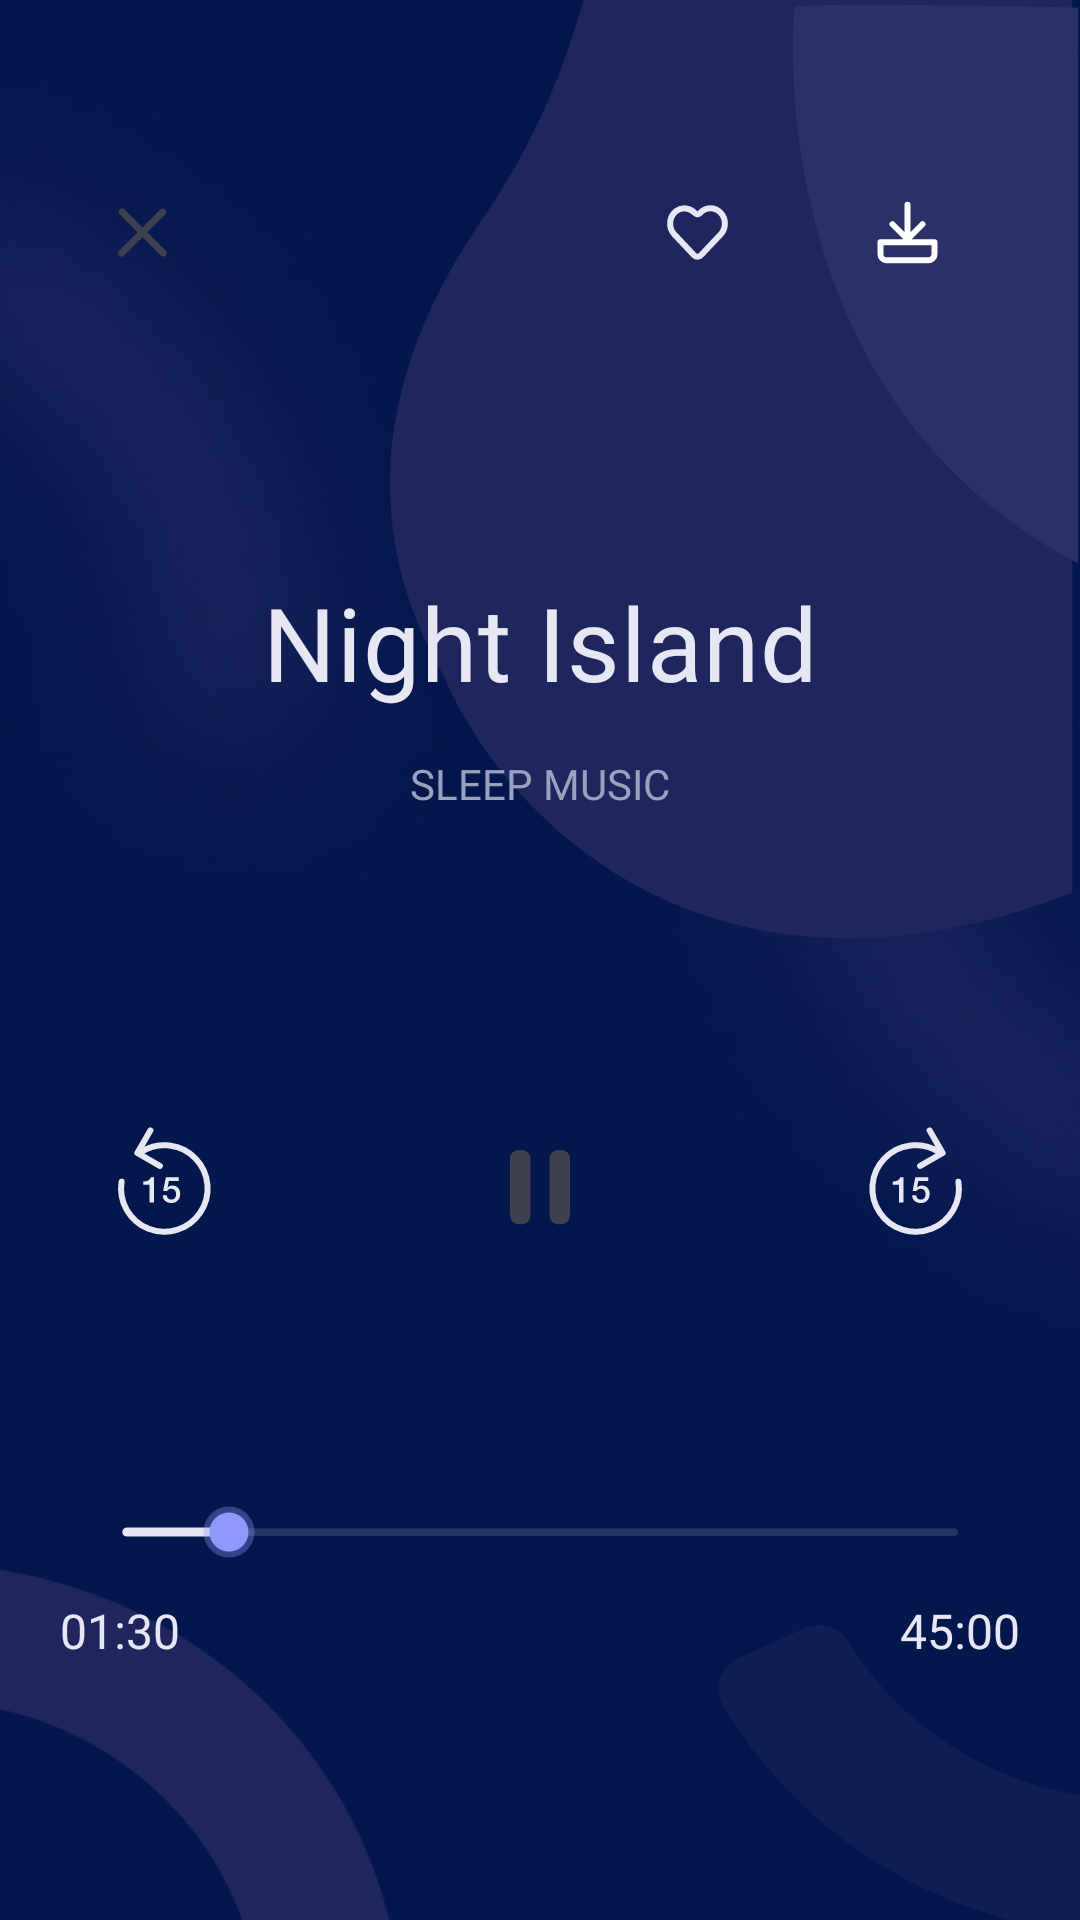

Icon click points for this 1080*1920 phone screenshot, format (x,y):
cancel cross: (142,232)
download: (907,232)
heart: (697,232)
night pause: (540,1187)
night skip backward: (164,1181)
night skip forward: (915,1181)
